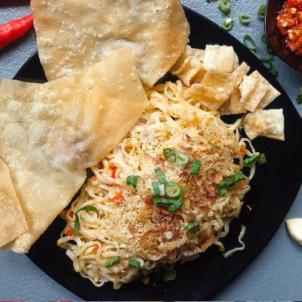Mie: (69, 102, 250, 278)
